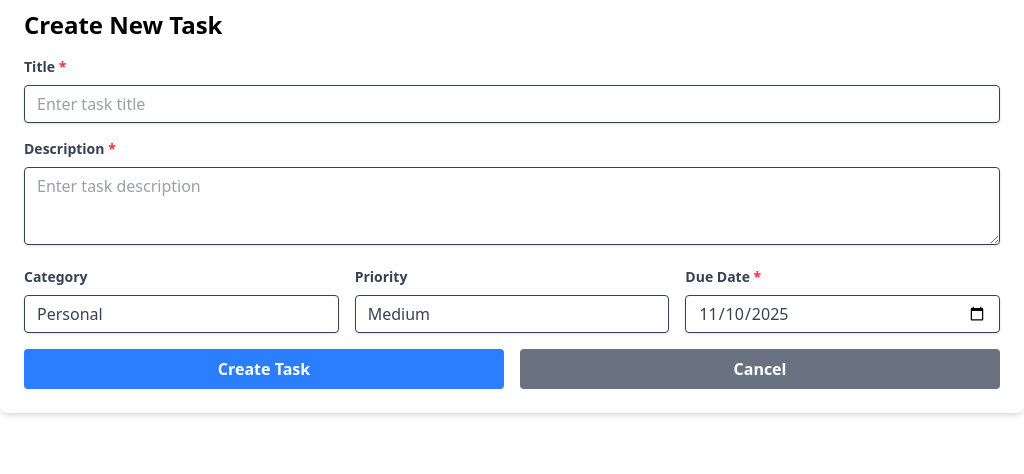
Test: TaskForm › validates required fields and shows error messages
Try to submit with empty fields
Click the button with aria-label "create new task": (264, 369) [24, 349, 504, 389]
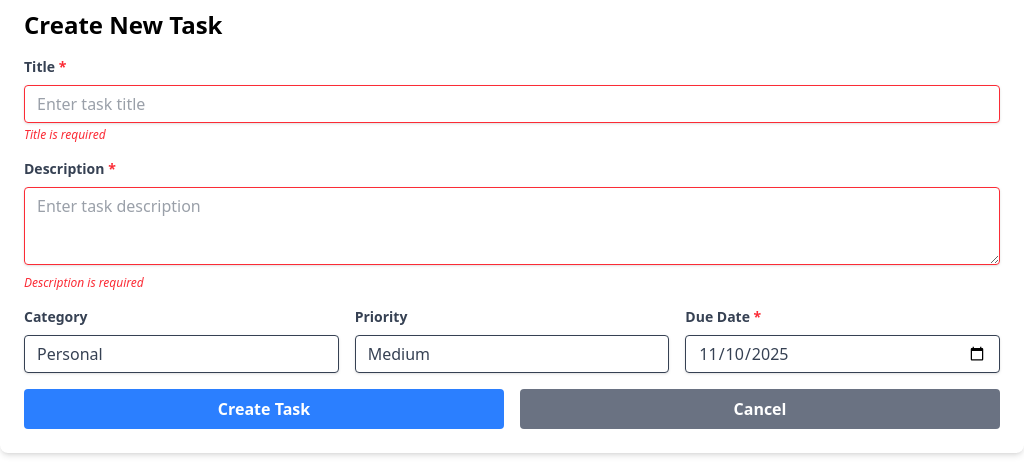
Check: the text "Title is required" is shown, box [24, 126, 106, 143]
Check: the text "Description is required" is shown, box [24, 274, 144, 291]
Too short values
In the field labelled "Title *": (512, 104) [24, 85, 1000, 123], type "ab"
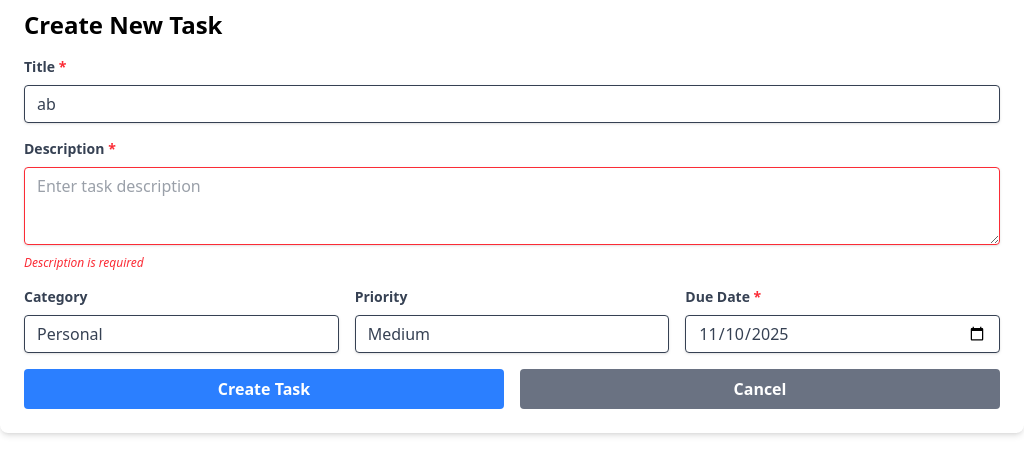
In the text box labelled "Description *": (512, 206) [24, 167, 1000, 245], type "too short"
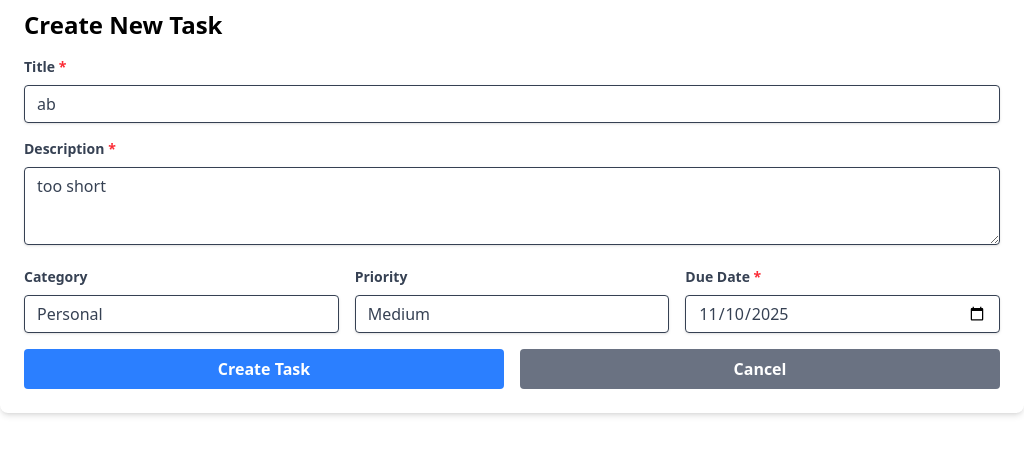
Click the button with aria-label "create new task": (264, 369) [24, 349, 504, 389]
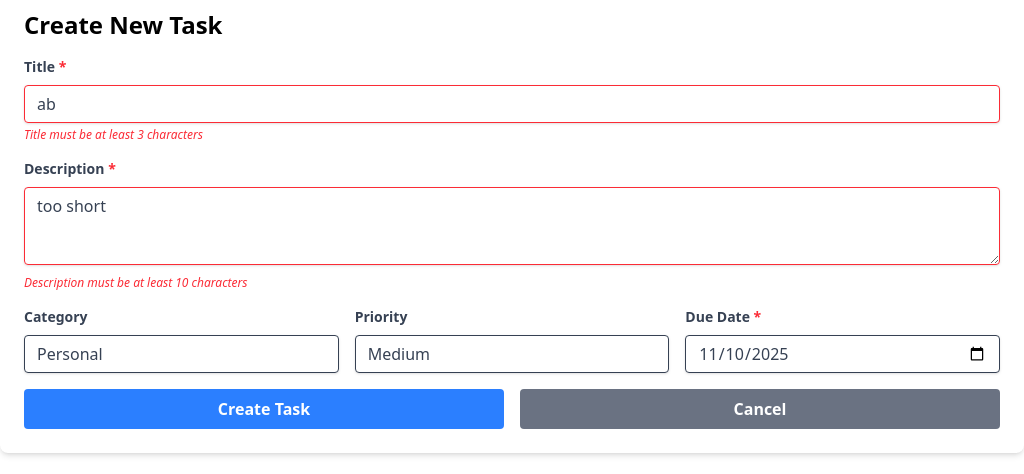
Check: the text "Title must be at least 3 characters" is shown, box [24, 126, 203, 143]
Check: the text "Description must be at least 10 characters" is shown, box [24, 274, 248, 291]
